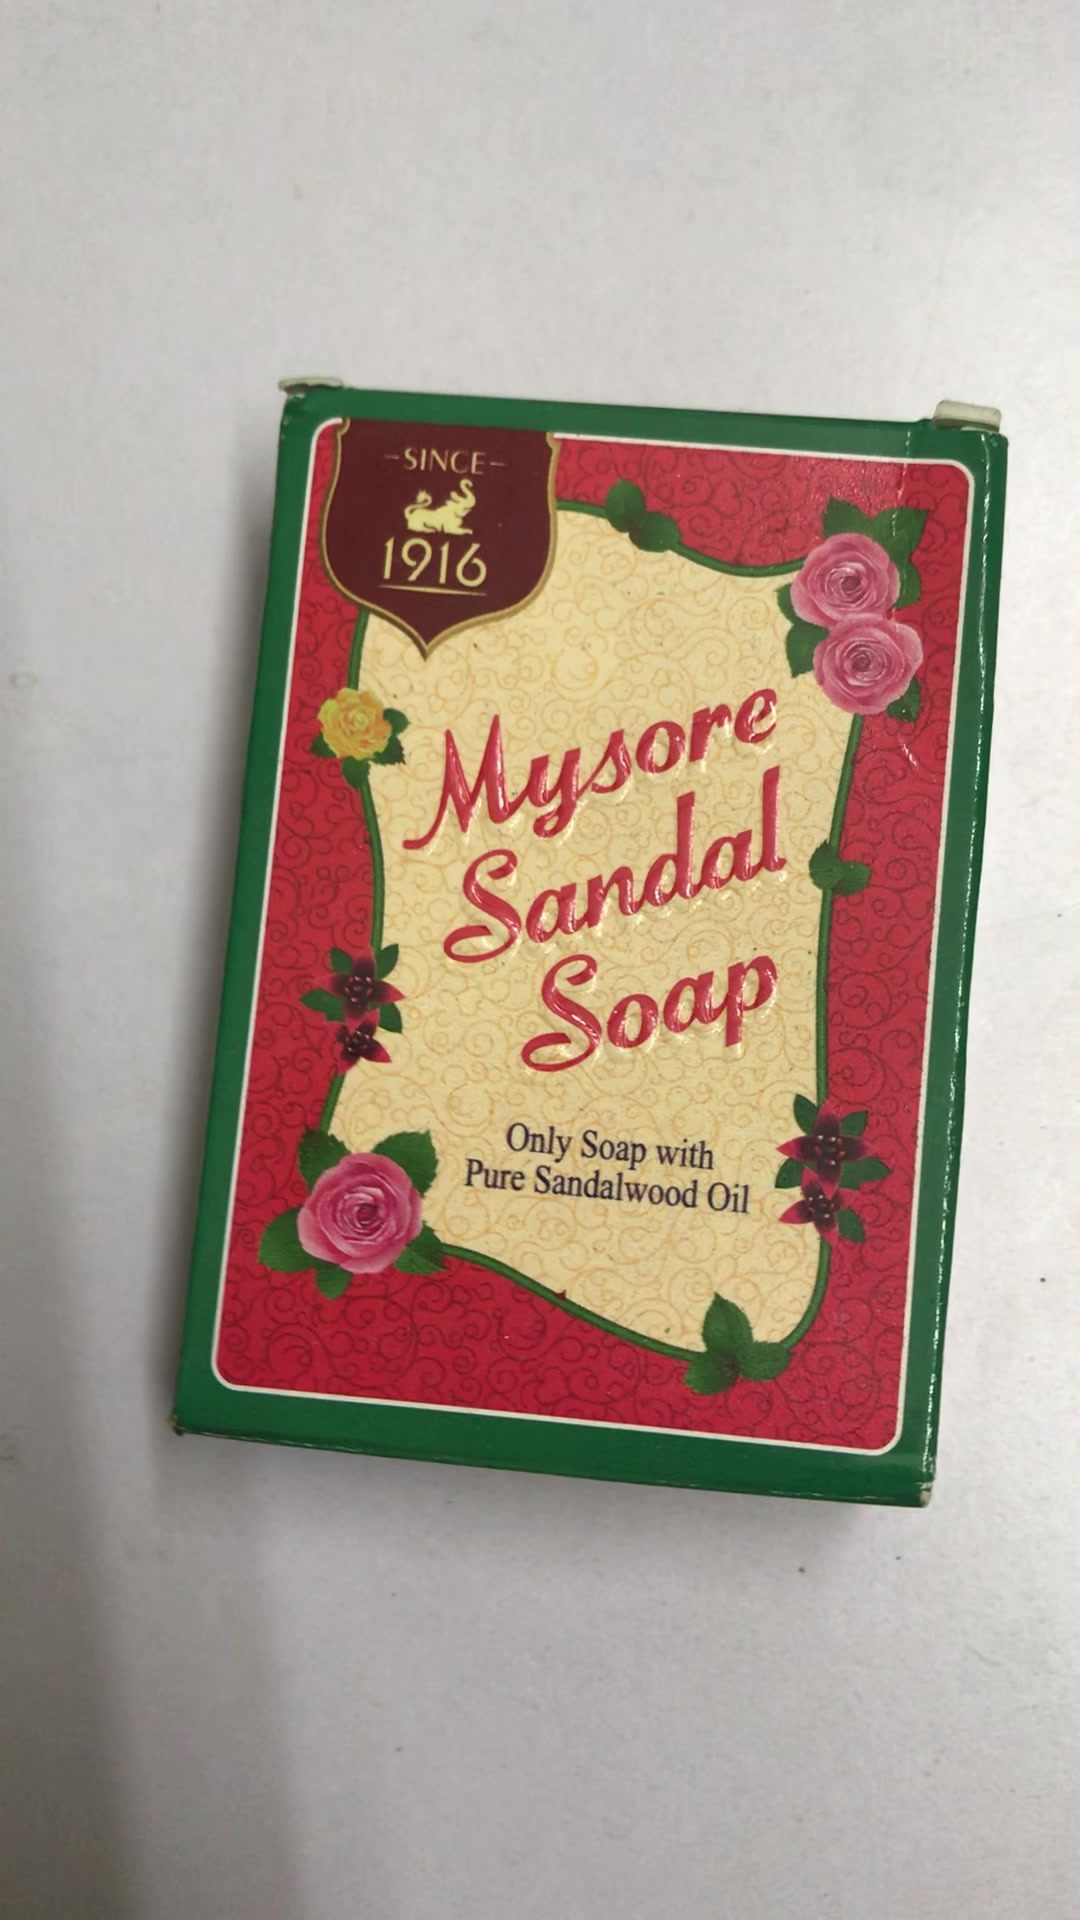mysore sandal soap: (171, 365, 1005, 1505)
